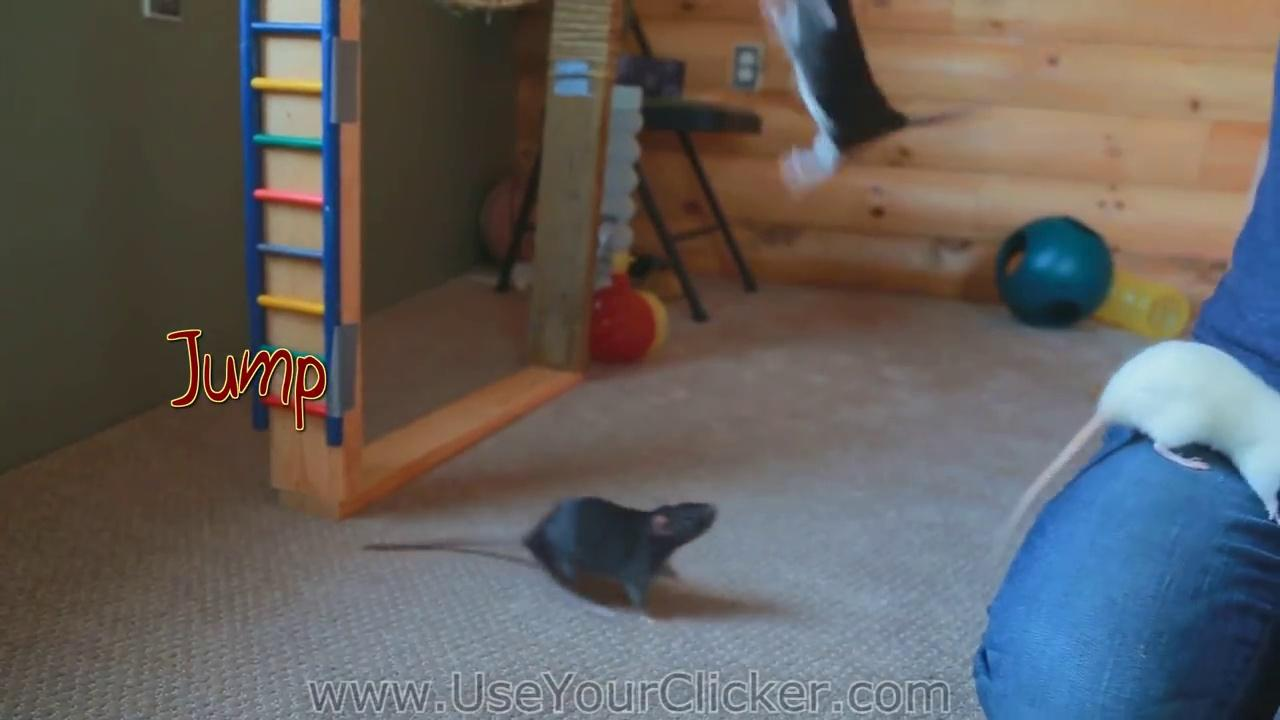rat: (1006, 342, 1279, 528), (349, 496, 717, 626)
